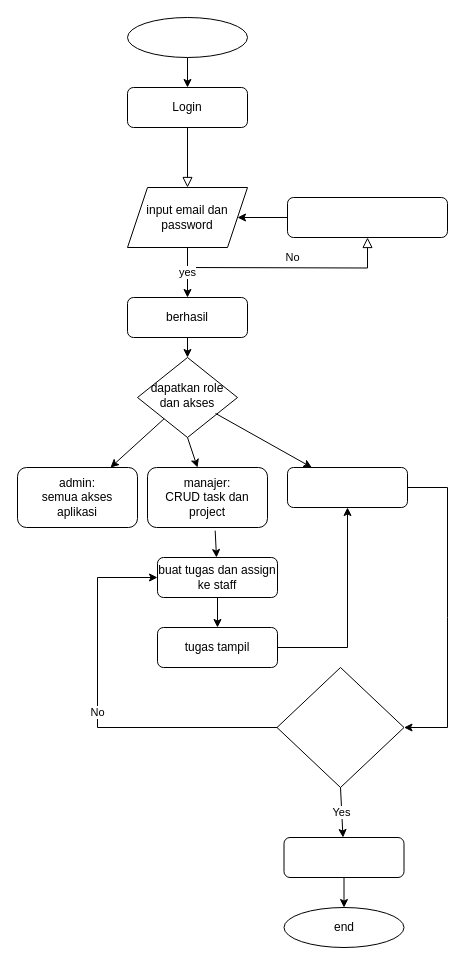
Image size: 473x965. Some labels were removed from this diagram. Here are the shapes that lost their labels. From the top down, the centre of each, then its label:
At point (187, 37): "start".
At point (367, 217): "salah password atau email / belum terdaftar".
At point (347, 487): "staff: Update Task".
At point (340, 727): "pengecekan task done / belum".
At point (343, 857): "done".
